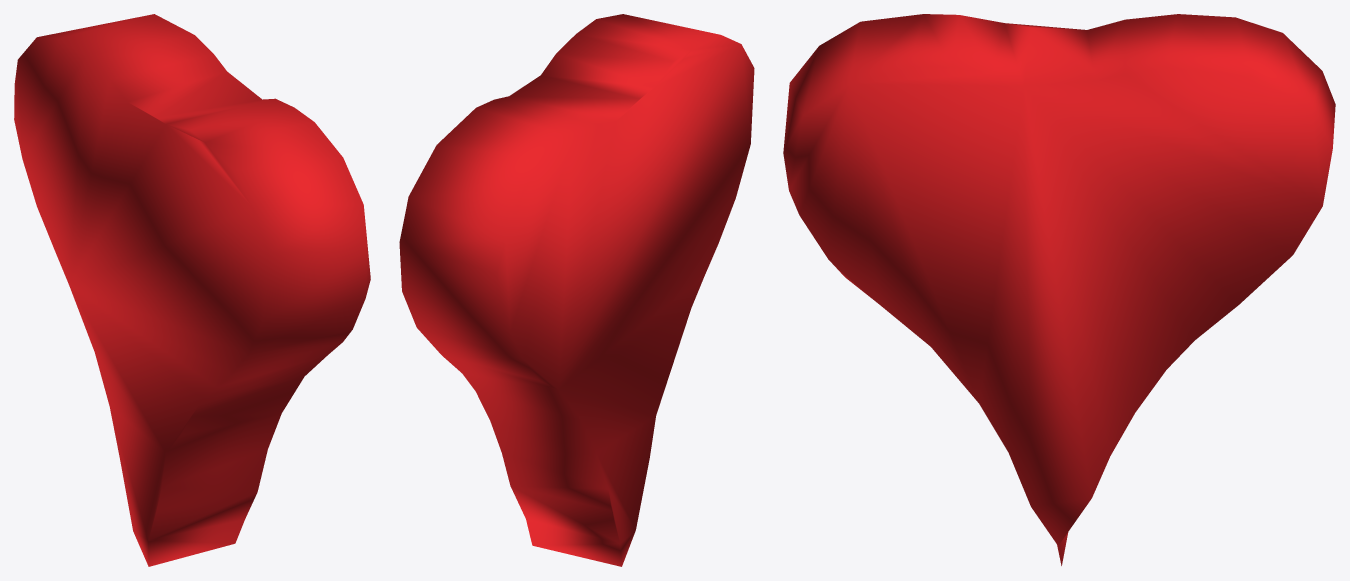
File: Heart.fbx
The picture shows the model from 3 angles, left to right: view 1: azimuth 30°, elevation 25°; view 2: azimuth 150°, elevation 25°; view 3: azimuth 270°, elevation 25°; orthographic projection. The views are drawn at different scales.
Visible parts, largest first — view 1: BezierCurve.003; view 2: BezierCurve.003; view 3: BezierCurve.003.
Boxes of the visible parts, x1,y1,x2,y2 form: BezierCurve.003: [14, 14, 370, 566]; BezierCurve.003: [399, 14, 754, 566]; BezierCurve.003: [783, 14, 1335, 565].
Size of the model in its own units: 91.71 by 21.68 by 92.51.
